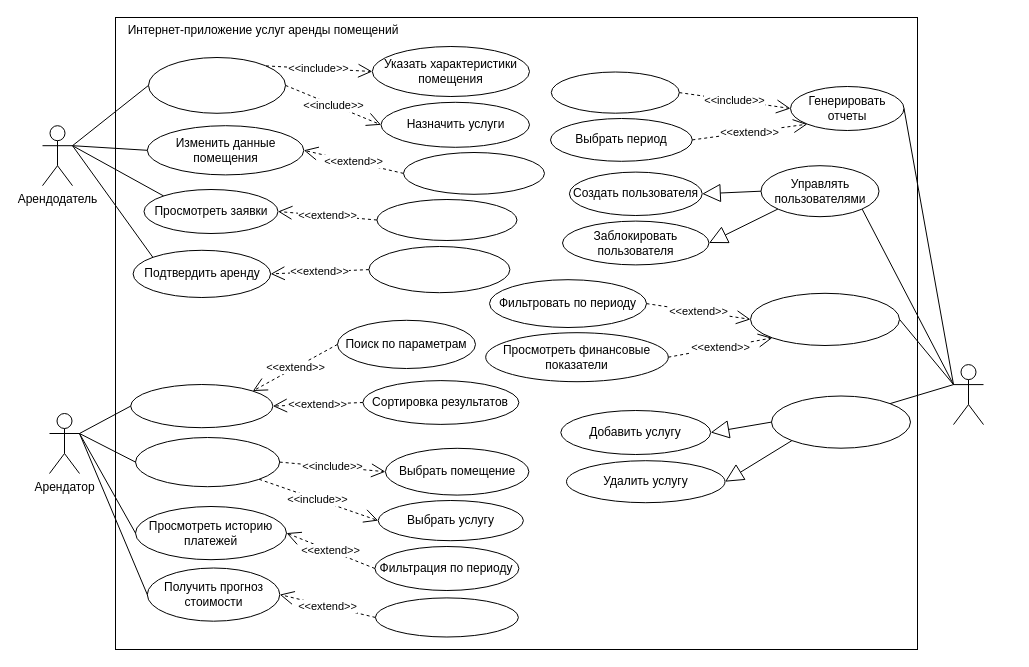
Some shapes in this 1029 by 667 pixel diagram are drawn without their labels. The box of each missing label's shape, as (x1, y1, x2, y2) in pixels:
Администратор: (952, 364, 984, 425)
Добавить помещение: (148, 56, 286, 113)
Изменить стоимость: (402, 152, 544, 194)
Найти помещение: (130, 384, 273, 428)
Оформить аренду: (134, 436, 280, 487)
Проверить данные арендатора: (368, 246, 510, 293)
Просматривать статистику: (750, 292, 900, 346)
Сравнение сценариев: (374, 597, 518, 637)
Управлять услугами: (770, 395, 910, 448)
Фильтрация заявок: (376, 198, 517, 240)
Экспорт в файл: (550, 71, 679, 113)
